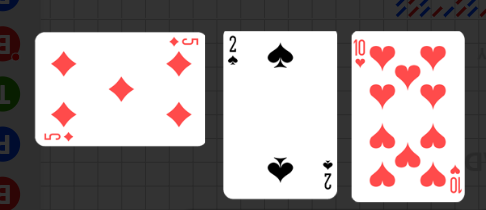10H: (448, 162, 462, 195)
2S: (226, 34, 240, 67)
9D: (43, 131, 75, 143)
